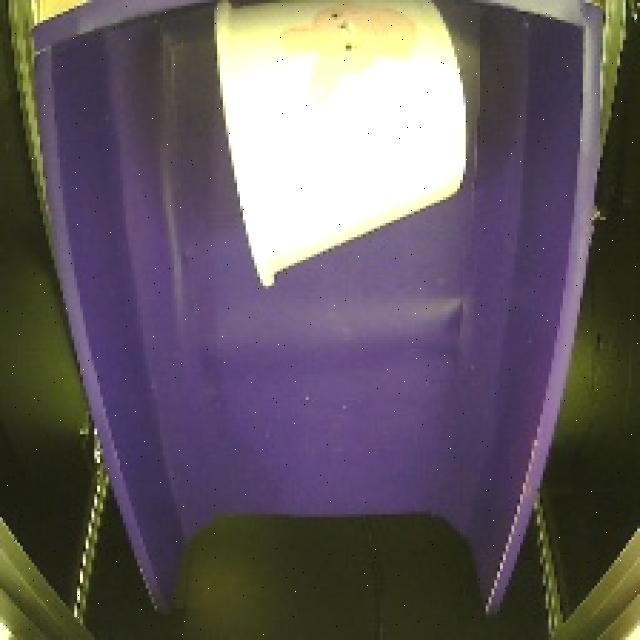cups: (190, 0, 480, 300)
